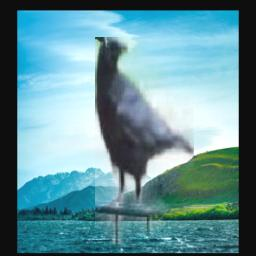Crow: (95, 38, 194, 246)
